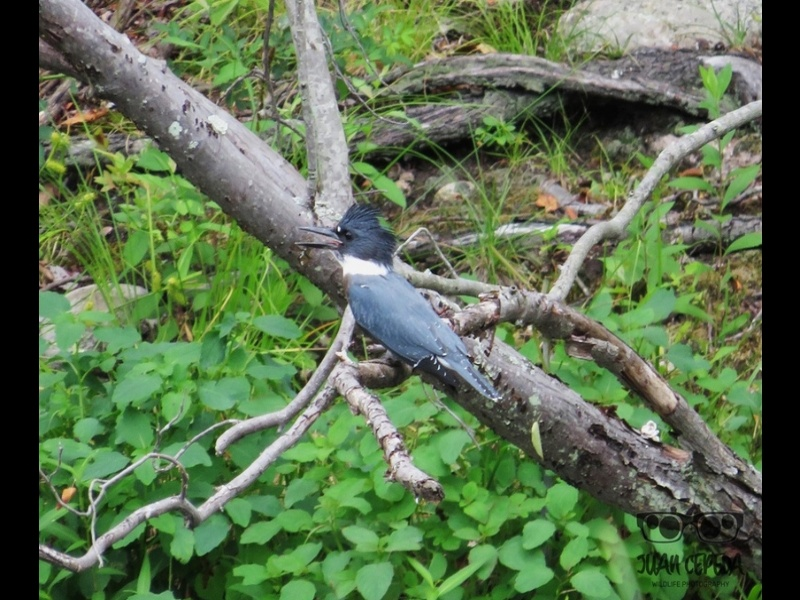kingfisher: (299, 204, 497, 404)
